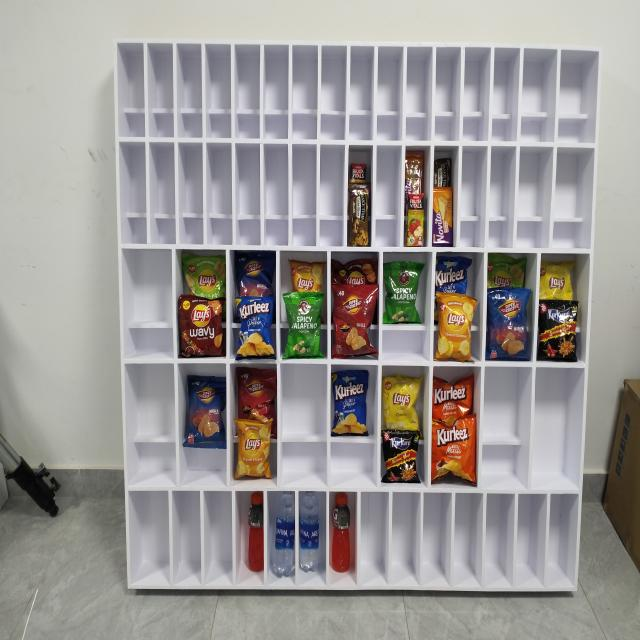Plastic: (331, 285, 377, 358), (184, 374, 227, 451), (178, 294, 228, 356), (488, 288, 531, 360), (282, 291, 326, 358), (436, 296, 476, 364), (233, 296, 274, 359), (538, 299, 578, 361), (332, 369, 369, 436), (383, 262, 421, 325), (433, 421, 476, 474), (236, 420, 273, 480), (382, 429, 420, 484), (238, 366, 276, 419), (382, 374, 417, 429), (182, 252, 226, 294), (234, 252, 274, 296), (274, 492, 294, 576), (300, 493, 320, 574), (433, 378, 474, 417), (332, 493, 352, 572), (331, 258, 379, 286), (488, 256, 527, 288), (350, 184, 370, 246), (540, 262, 574, 298), (289, 258, 326, 291), (433, 188, 454, 244), (437, 256, 471, 290), (249, 494, 262, 574), (408, 193, 427, 246), (406, 152, 424, 194), (434, 158, 452, 188), (351, 162, 368, 184)
